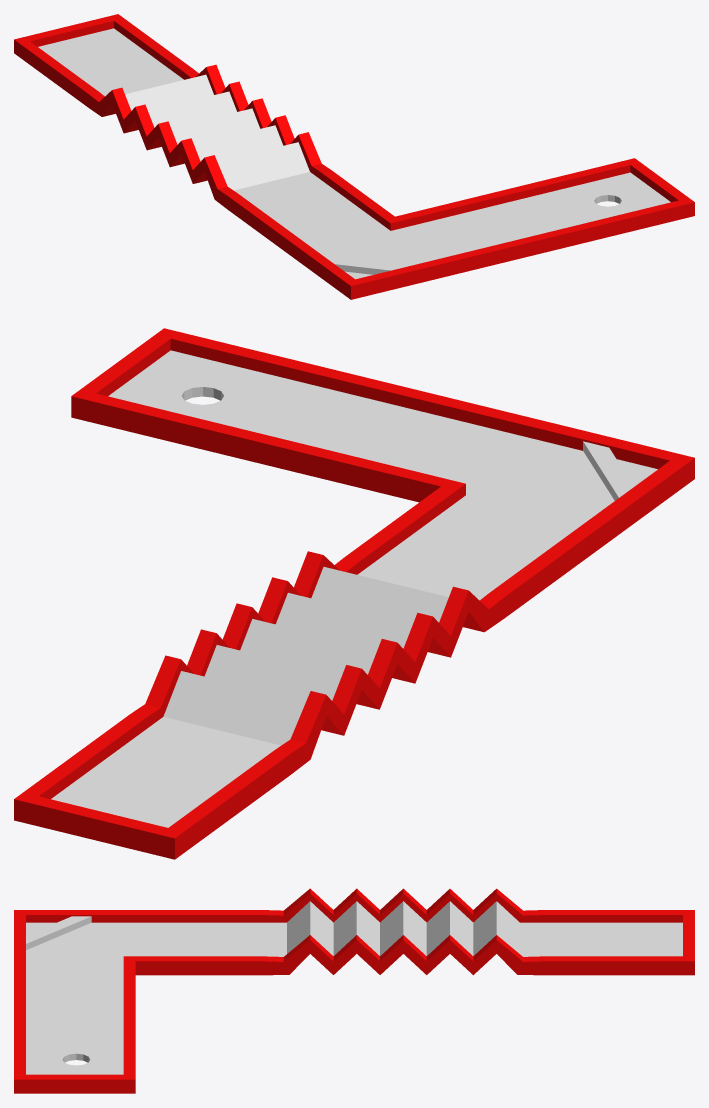
Rendered from BahnF3.fbx.
The picture shows the model from 3 angles, top to bottom: view 1: azimuth 30°, elevation 25°; view 2: azimuth 150°, elevation 25°; view 3: azimuth 270°, elevation 25°; orthographic projection. The views are drawn at different scales.
Visible parts, largest first — view 1: BahnF3; view 2: BahnF3; view 3: BahnF3.
Boxes of the visible parts, x1=… form: BahnF3: x1=14, y1=14, x2=694, y2=299; BahnF3: x1=14, y1=328, x2=694, y2=859; BahnF3: x1=14, y1=888, x2=694, y2=1093.
Bounding box in the file's own units: 287 × 28 × 487.
